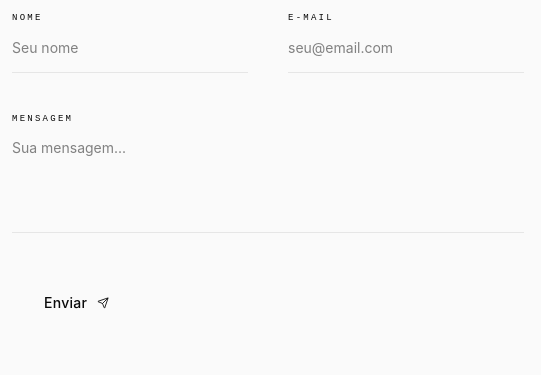
Test case: ContactForm › shows a translated error message when the server responds with a known error code
Type "Lucas" into the field labelled "Nome" at (130, 53), box [12,34,248,72]
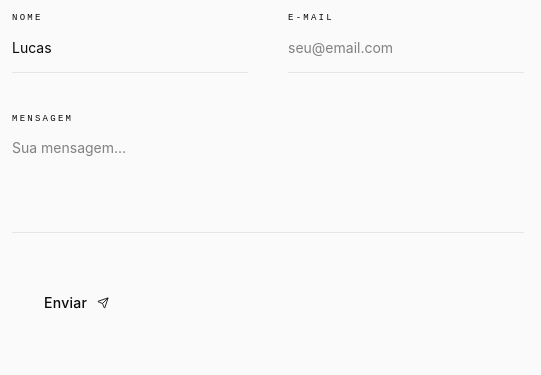
Type "lucas@example.com" into the field labelled "E-mail" at (406, 53), box [288,34,524,72]
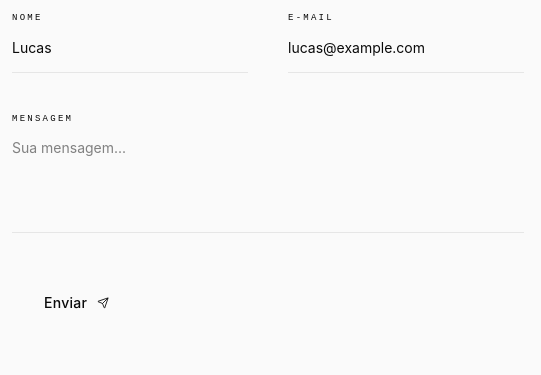
Type "Olá!" into the text box labelled "Mensagem" at (268, 184), box [12,134,524,233]
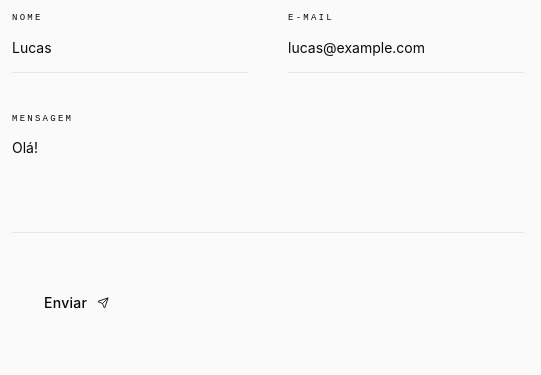
Click the button "Enviar" at (77, 303), box [12,279,141,327]
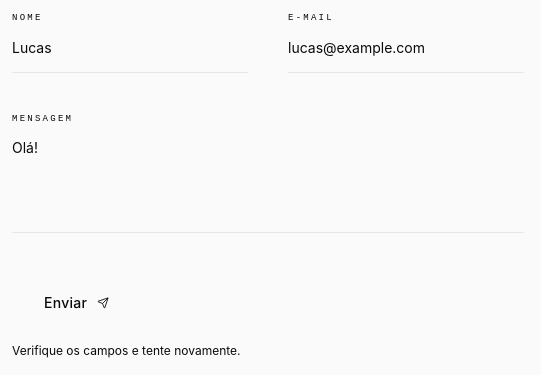
Expected: the text "Verifique os campos e tente novamente." is shown, [12,343,240,358]
